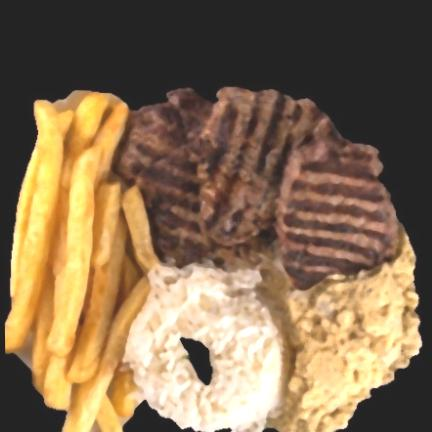meat: (116, 87, 397, 289)
potato: (5, 91, 148, 431)
rice: (124, 264, 282, 431)
